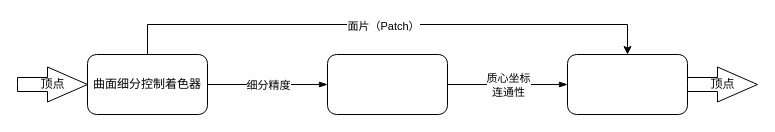
This 775x132 diagram has some shape labels left out. The shapes that lost their labels are listed below. From the top down, each one's box as (x1, y1, x2, y2) in pixels, then its label:
(326, 54, 448, 114): 细分曲面图元生成
(566, 54, 688, 114): 曲面细分计算着色器
